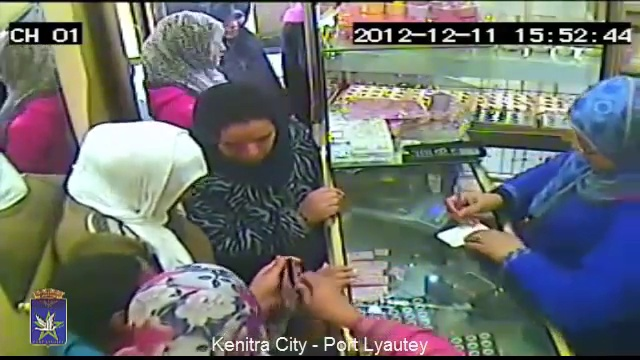face: (216, 119, 273, 164)
